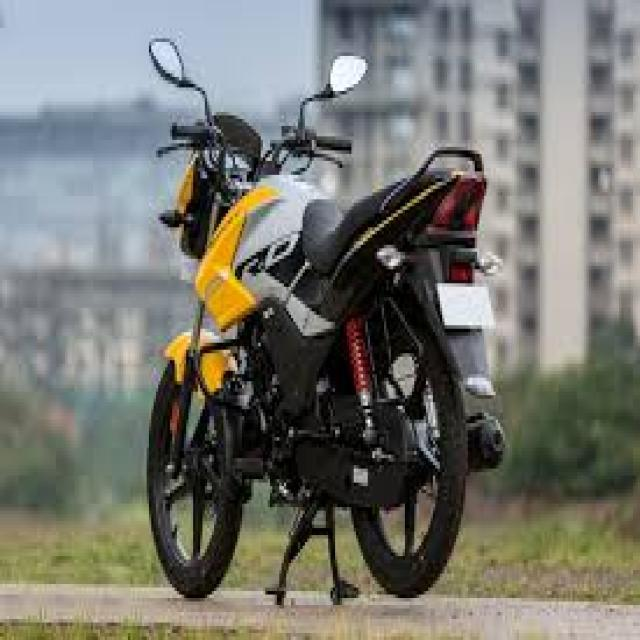MOTORCYCLE: (140, 102, 478, 603)
